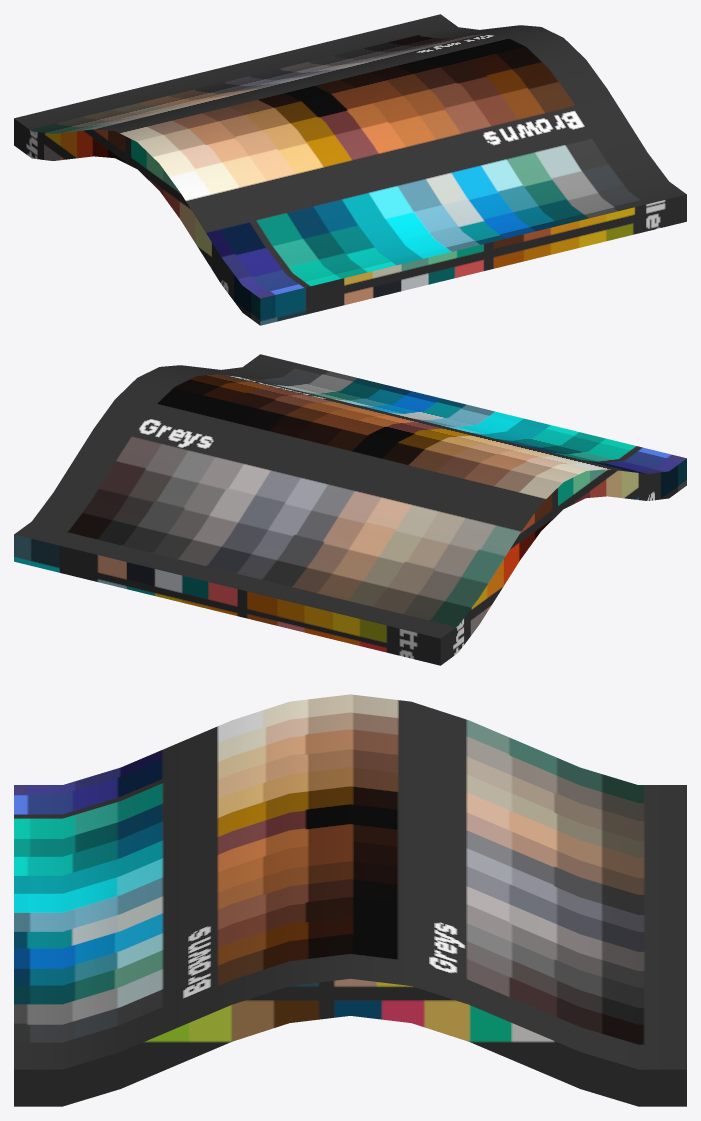
File: basic_bighwave.obj
The picture shows the model from 3 angles, top to bottom: view 1: azimuth 30°, elevation 25°; view 2: azimuth 150°, elevation 25°; view 3: azimuth 270°, elevation 25°; orthographic projection. The views are drawn at different scales.
Parts seen in each view (by area): view 1: Part2_bend_wave_glb_ID3.026; view 2: Part2_bend_wave_glb_ID3.026; view 3: Part2_bend_wave_glb_ID3.026.
Part boxes in pixels (x1,y1,x2,y2): Part2_bend_wave_glb_ID3.026: (14, 14, 686, 325); Part2_bend_wave_glb_ID3.026: (14, 354, 686, 665); Part2_bend_wave_glb_ID3.026: (14, 694, 686, 1106).
Bounding box in the file's own units: 4 × 0.8385 × 4.
